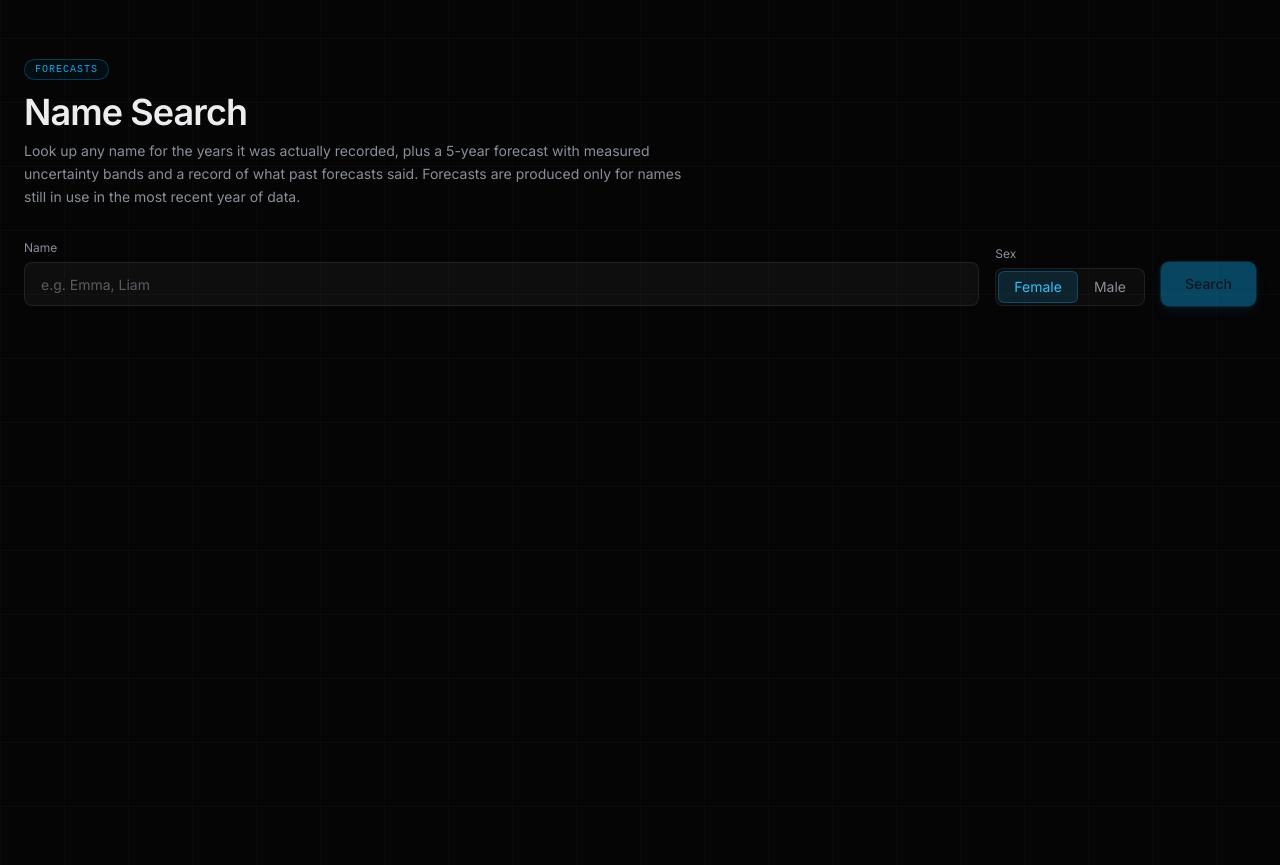
Test: SearchPage track record › summarises accuracy with figures a reader can check against the error column
The image size is (1280, 865).
Type "Emma" into the field labelled "Name" at [502, 284], box [24,262,979,306]
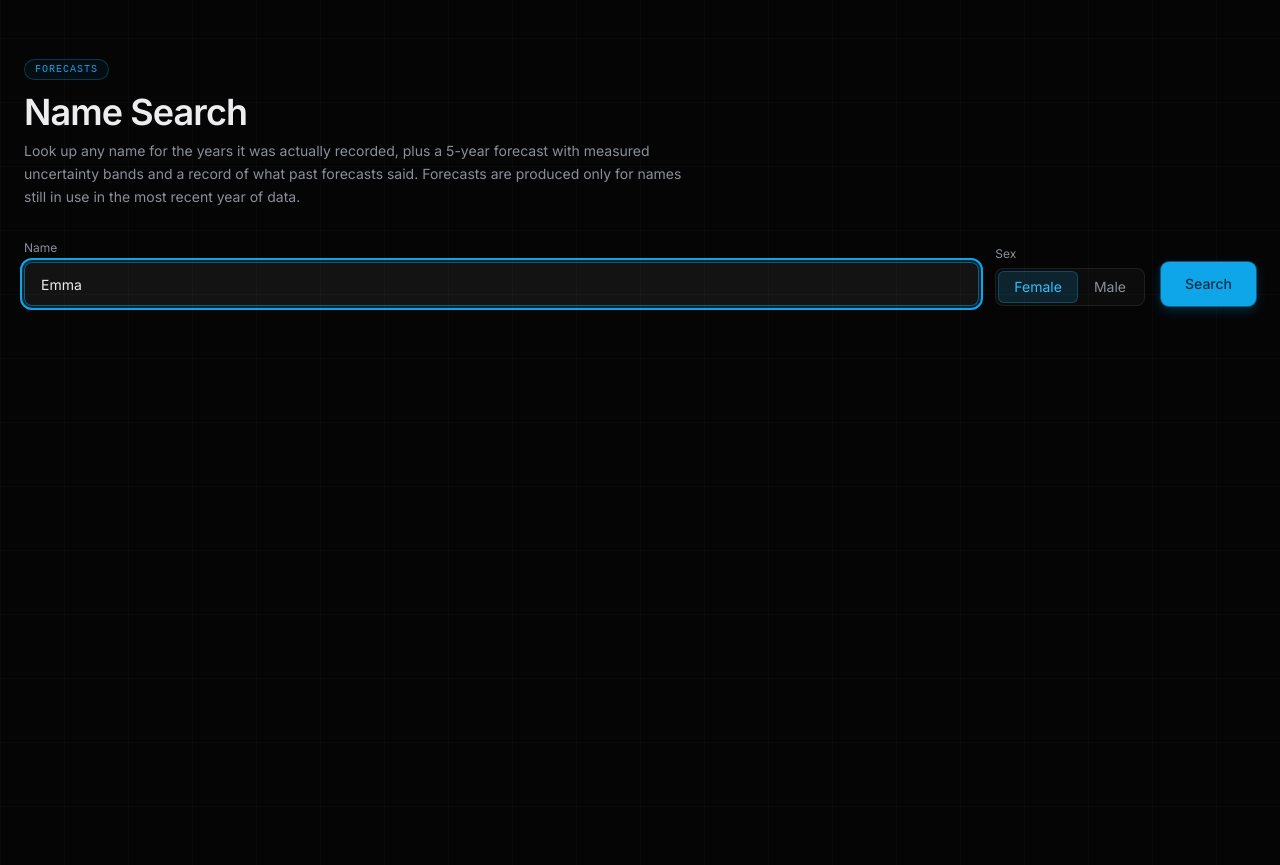
Click the button "Search" at [1208, 284], box [1161,262,1256,306]
(page scrolled)
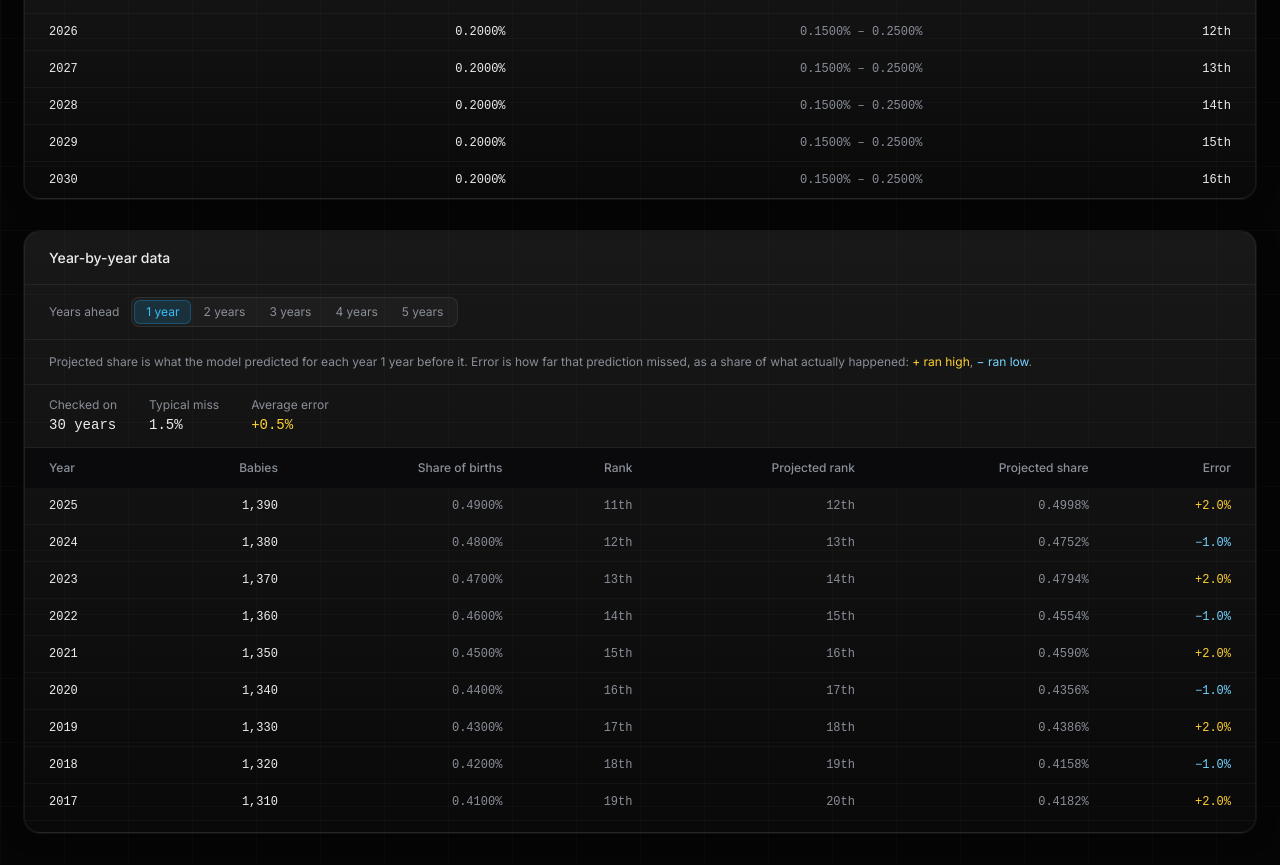
Result: the column heading "Error" is shown at [1113,448,1255,488]
Result: the element named "accuracy" shows "30 years" at [25,385,1255,448]
Result: the text "1.5%" is shown at [149,417,183,433]
